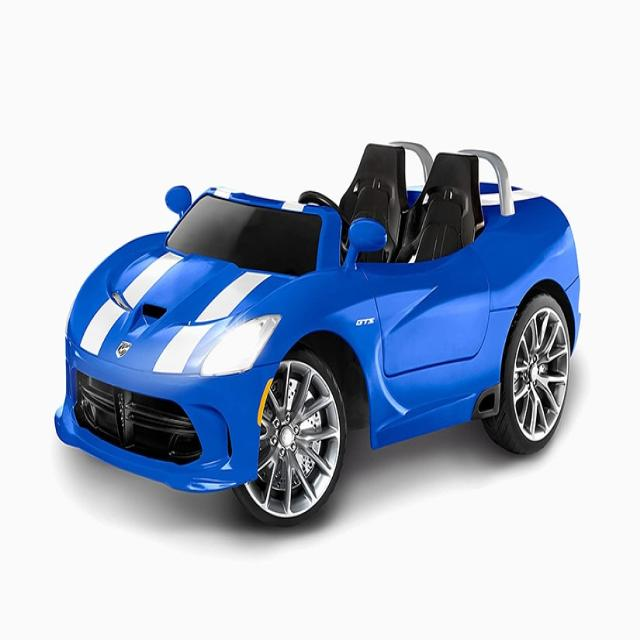Car: (54, 140, 581, 527)
